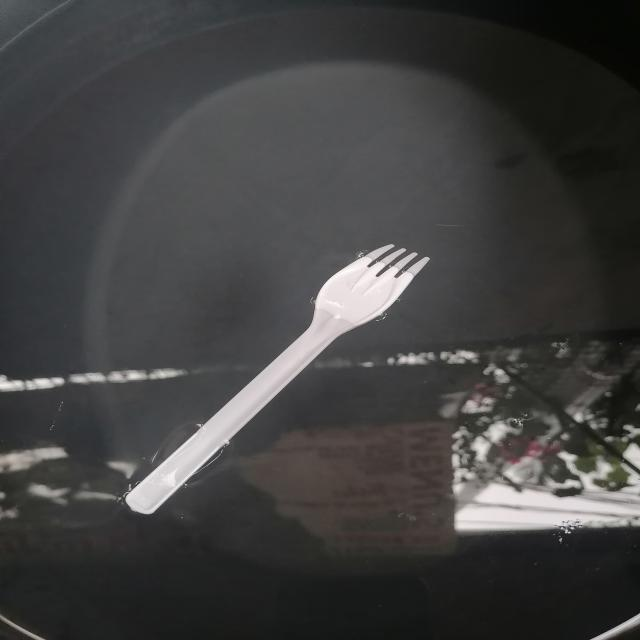Plastic Fork: (119, 244, 429, 514)
